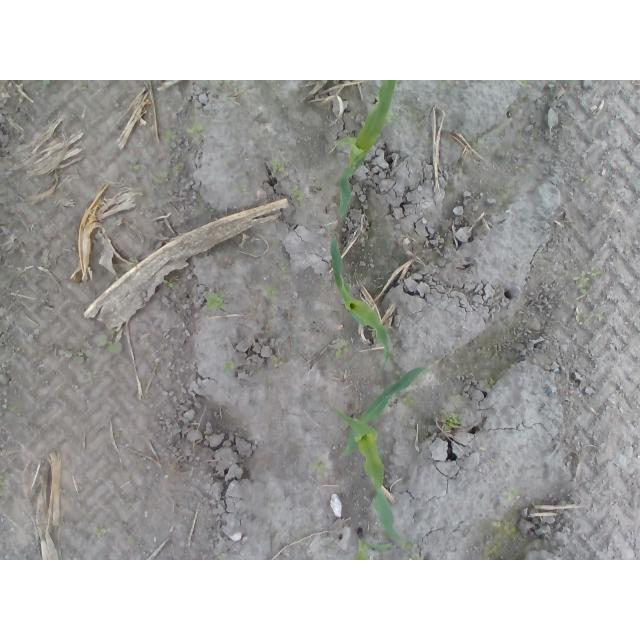Maize: (331, 366, 430, 548), (332, 81, 398, 219), (329, 236, 391, 372), (354, 528, 395, 561)
Weeds: (573, 268, 603, 300), (93, 329, 124, 355), (60, 345, 92, 363), (205, 293, 228, 314), (577, 310, 604, 326), (402, 544, 426, 561), (442, 413, 462, 433), (311, 458, 326, 477), (270, 160, 287, 176), (262, 283, 280, 298), (94, 525, 112, 539), (507, 486, 521, 503), (83, 370, 99, 384), (335, 341, 349, 356), (235, 184, 249, 198), (291, 187, 305, 201), (162, 130, 178, 142), (220, 362, 236, 374), (155, 172, 169, 185), (42, 80, 57, 92), (187, 124, 202, 136), (403, 396, 416, 409), (489, 516, 503, 528), (162, 278, 175, 290), (0, 477, 6, 503), (271, 356, 281, 369), (129, 159, 140, 170), (129, 259, 140, 270), (218, 81, 235, 88), (507, 267, 517, 277), (7, 406, 17, 415), (281, 260, 287, 273), (219, 553, 230, 560)
